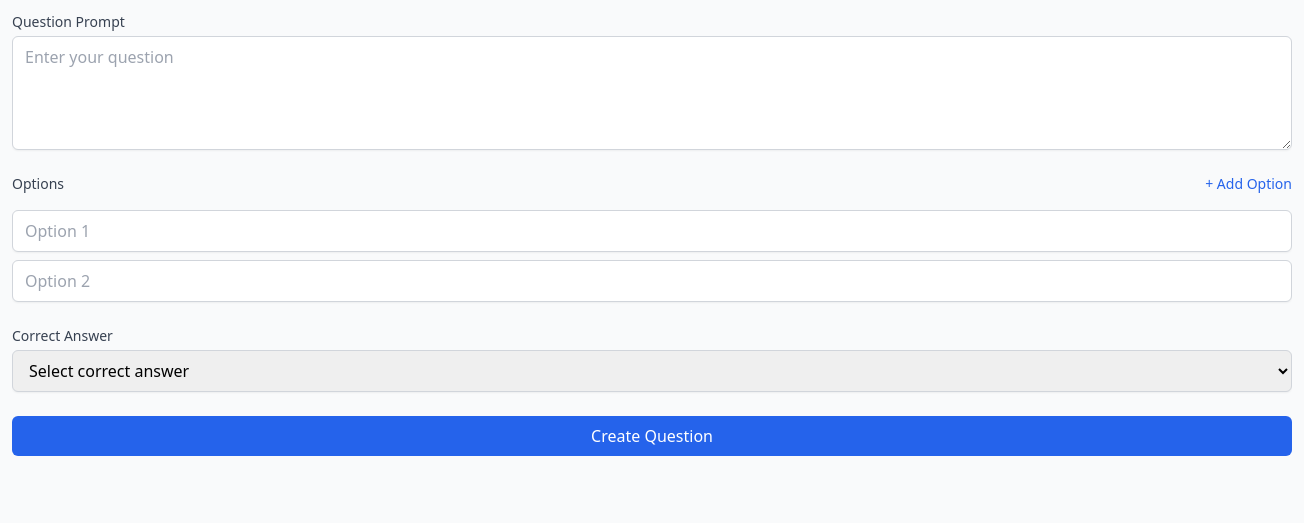
CreateQuestionForm › allows adding and removing MCQ options
The image size is (1304, 523).
Click the button "+ Add Option" at (1249, 184), box [1205, 174, 1292, 194]
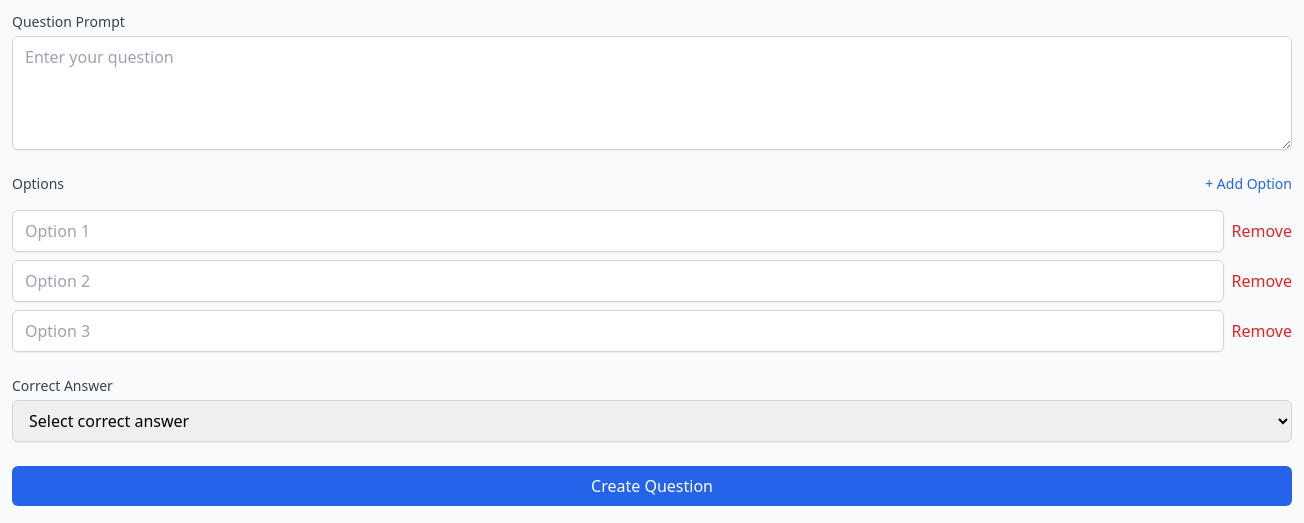
Expected: the 1st button "Remove" is shown, [1232, 210, 1292, 252]
